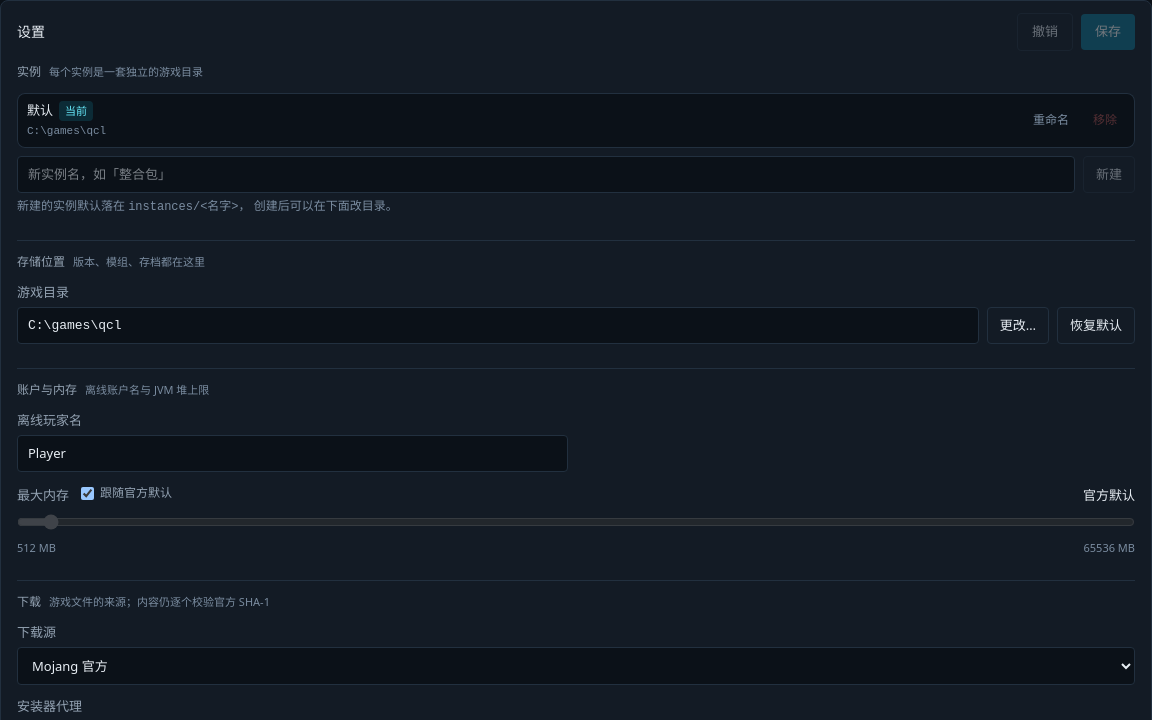
SettingsPanel › 玩家名为空时拒绝保存
Clear the field labelled "离线玩家名" at {"x": 292, "y": 453}, box left=17, top=434, right=568, bottom=472
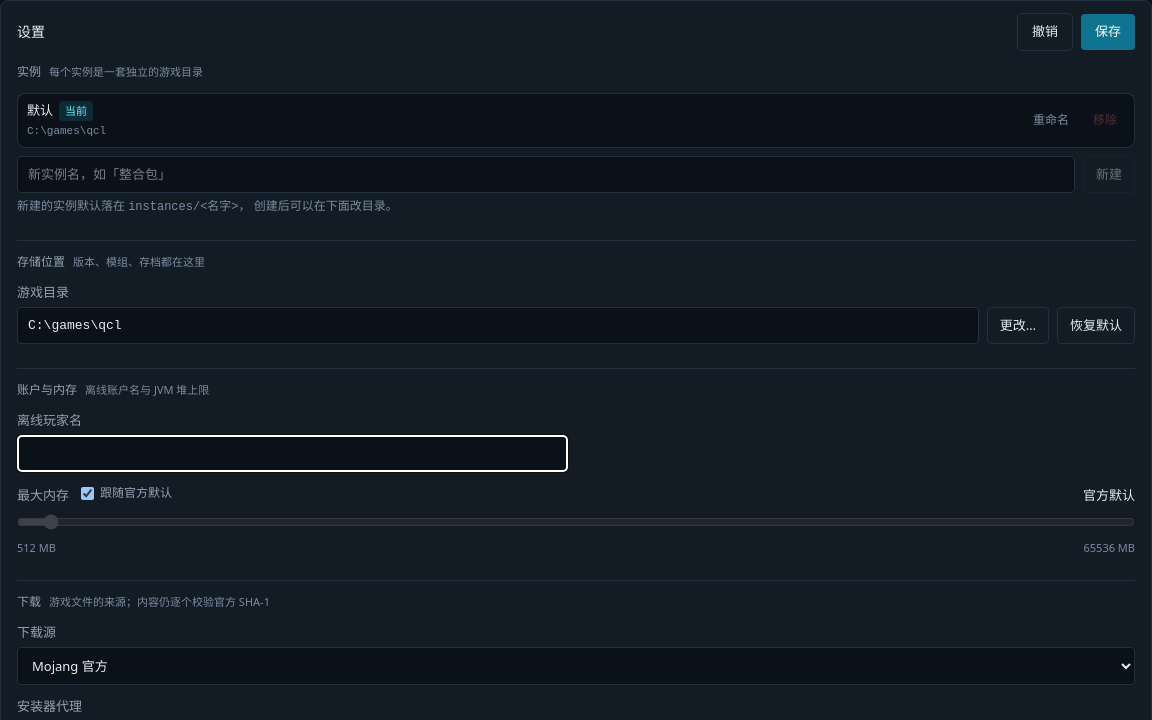
Click the button "保存" at {"x": 1108, "y": 32}, box left=1081, top=14, right=1135, bottom=50
(page scrolled)
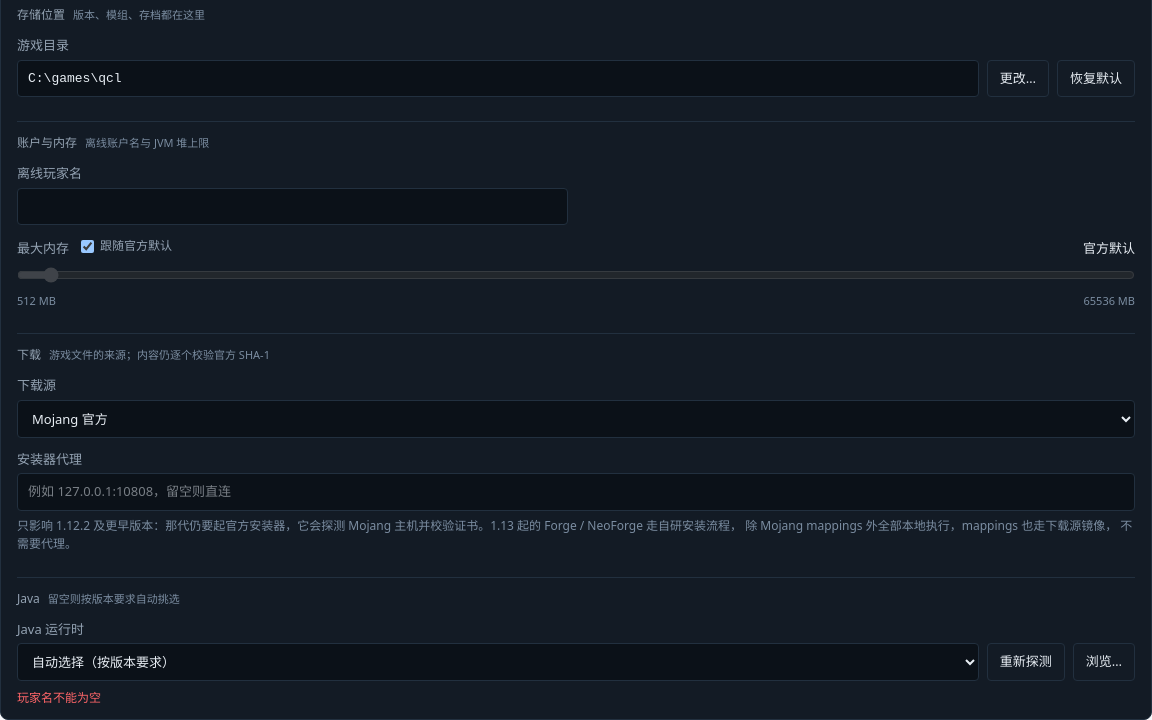
expect the text "玩家名不能为空" is shown: met, box left=17, top=689, right=101, bottom=706
